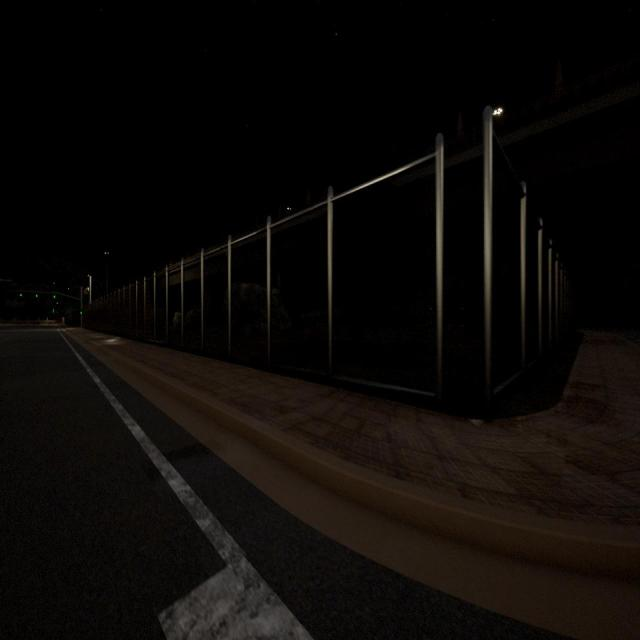traffic_light: (80, 309, 82, 315), (36, 292, 38, 298), (54, 293, 56, 298), (20, 293, 22, 297)
